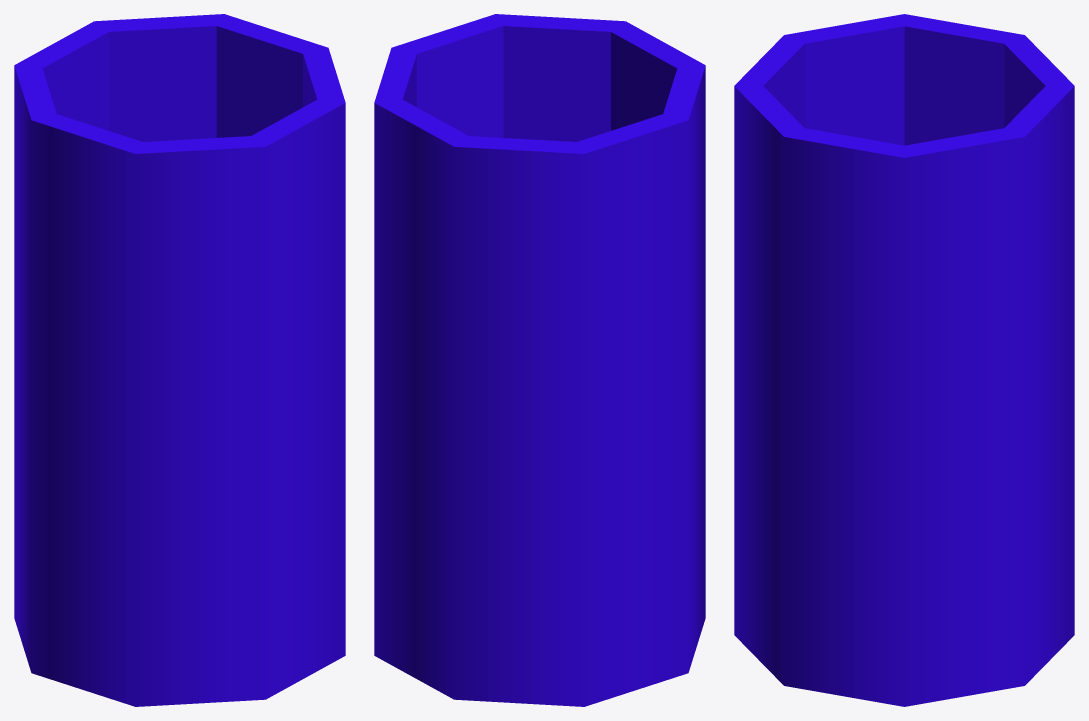
Rendered from office_pack_pencilHolder_round_1_meshCollider.fbx.
The picture shows the model from 3 angles, left to right: view 1: azimuth 30°, elevation 25°; view 2: azimuth 150°, elevation 25°; view 3: azimuth 270°, elevation 25°; orthographic projection.
Visible parts, largest first — view 1: office_pack_pencilHolder_round_1_meshCollider; view 2: office_pack_pencilHolder_round_1_meshCollider; view 3: office_pack_pencilHolder_round_1_meshCollider.
Boxes of the visible parts, bbox=[...] form: office_pack_pencilHolder_round_1_meshCollider: bbox=[14, 14, 345, 706]; office_pack_pencilHolder_round_1_meshCollider: bbox=[374, 14, 705, 706]; office_pack_pencilHolder_round_1_meshCollider: bbox=[734, 14, 1074, 706].
Bounding box in the file's own units: 8.21 × 14.6 × 8.21.
